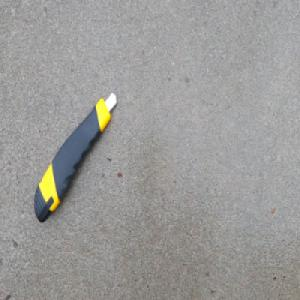Cutter: (34, 90, 118, 224)
